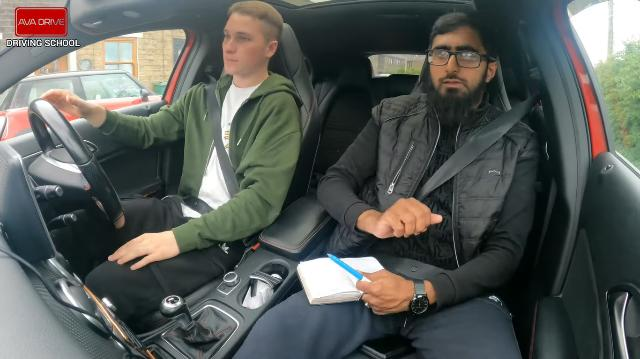seatbelt: (170, 66, 318, 226), (414, 90, 540, 202)
